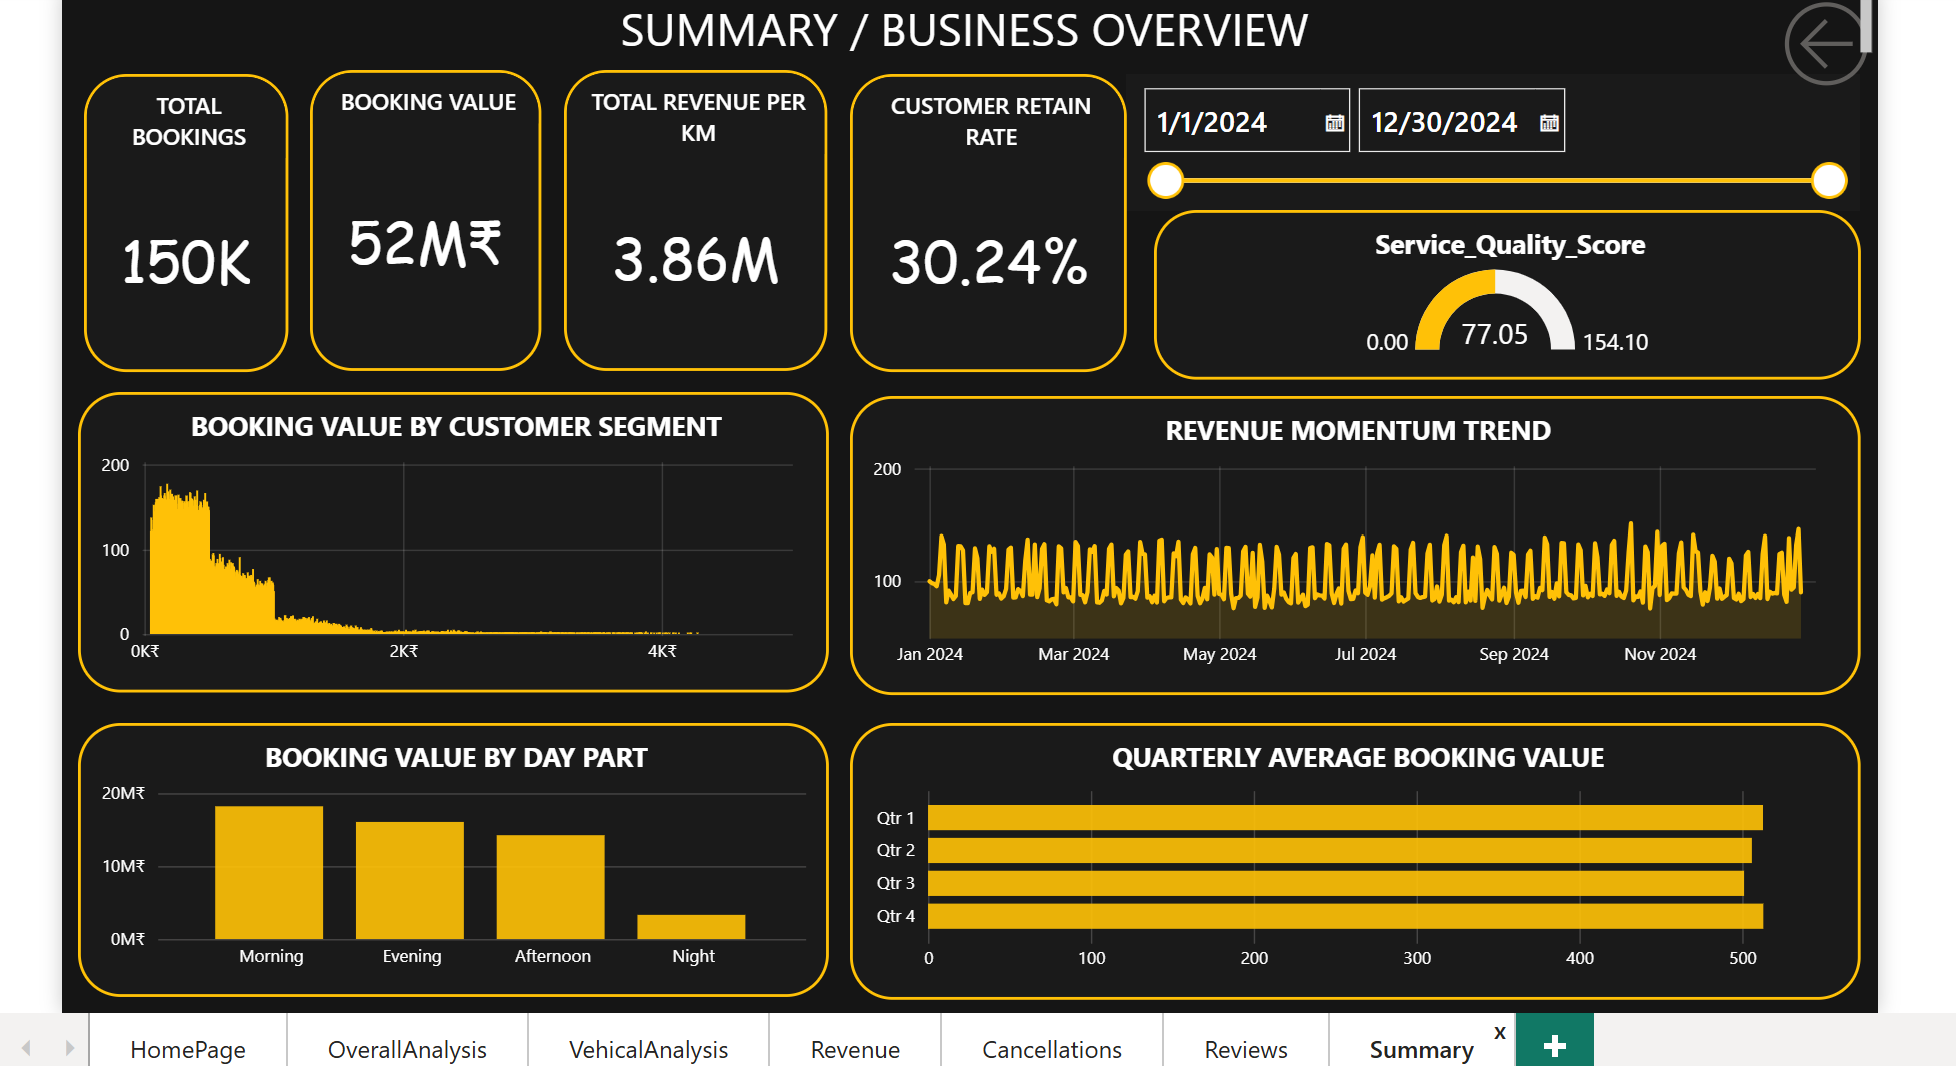

This screenshot's page, from the dashboard's own definition file:
{"tool":"powerbi","page":{"name":"Summary","canvas":[1280,720],"ordinal":6},"visuals":[{"type":"slicer","fields":{"Values":["rideBookings.Date"]},"box":[749.8,58.7,516.9,96.6],"z":0},{"type":"actionButton","box":[1206.2,0,73.8,75.7],"z":1000},{"type":"textbox","box":[0,0,1280,58.7],"z":2000},{"type":"cardVisual","title":"TOTAL BOOKINGS","fields":{"Data":["CountNonNull(rideBookings.Booking ID)"]},"box":[15.1,58.7,143.9,210.2],"z":3000},{"type":"cardVisual","title":"TOTAL REVENUE PER KM","fields":{"Data":["Sum(rideBookings.RevenuePerKM)"]},"box":[353.5,56.8,185.6,212.1],"z":4000},{"type":"cardVisual","title":"BOOKING VALUE","fields":{"Data":["Sum(rideBookings.Booking Value)"]},"box":[174.8,56.8,162.8,212.1],"z":5000},{"type":"cardVisual","title":"CUSTOMER RETAIN RATE","fields":{"Data":["rideBookings.Customer Retain Rate"]},"box":[554.8,58.7,195,210.2],"z":6000},{"type":"clusteredColumnChart","title":"BOOKING VALUE BY CUSTOMER SEGMENT","fields":{"Category":["rideBookings.Booking Value"],"Y":["CountNonNull(rideBookings.CustomerSegment)"]},"box":[11,283.2,529.1,210.8],"z":7000},{"type":"clusteredColumnChart","title":"BOOKING VALUE BY DAY PART","fields":{"Category":["rideBookings.DayPart"],"Y":["Sum(rideBookings.Booking Value)"]},"box":[11,516,529.1,193.2],"z":8000},{"type":"lineChart","title":"REVENUE MOMENTUM TREND","fields":{"Category":["rideBookings.Date"],"Y":["rideBookings.Revenue Momentum"]},"box":[554.8,285.9,712,210.2],"z":9000},{"type":"clusteredBarChart","title":"QUARTERLY AVERAGE BOOKING VALUE","fields":{"Category":["rideBookings.Date.Variation.Date Hierarchy.Quarter"],"Y":["rideBookings.Quarterly_Avg_Booking_Value"]},"box":[554.8,515,712,195],"z":10000},{"type":"gauge","fields":{"Y":["rideBookings.Service_Quality_Score"]},"box":[768.8,155.3,498,119.3],"z":11000}]}

Visuals, with their boxes on the page's 1280x720 design canvas (x1, y1, x2, y2). These are canvas units, not pixel positions in the 1956x1066 screenshot, which may show the page scaled, cropped or inside an application window:
slicer - rideBookings.Date: [left=750, top=59, right=1267, bottom=155]
actionButton: [left=1206, top=0, right=1280, bottom=76]
textbox: [left=0, top=0, right=1280, bottom=59]
"TOTAL BOOKINGS" cardVisual: [left=15, top=59, right=159, bottom=269]
"TOTAL REVENUE PER KM" cardVisual: [left=354, top=57, right=539, bottom=269]
"BOOKING VALUE" cardVisual: [left=175, top=57, right=338, bottom=269]
"CUSTOMER RETAIN RATE" cardVisual: [left=555, top=59, right=750, bottom=269]
"BOOKING VALUE BY CUSTOMER SEGMENT" clusteredColumnChart: [left=11, top=283, right=540, bottom=494]
"BOOKING VALUE BY DAY PART" clusteredColumnChart: [left=11, top=516, right=540, bottom=709]
"REVENUE MOMENTUM TREND" lineChart: [left=555, top=286, right=1267, bottom=496]
"QUARTERLY AVERAGE BOOKING VALUE" clusteredBarChart: [left=555, top=515, right=1267, bottom=710]
gauge - rideBookings.Service_Quality_Score: [left=769, top=155, right=1267, bottom=275]
